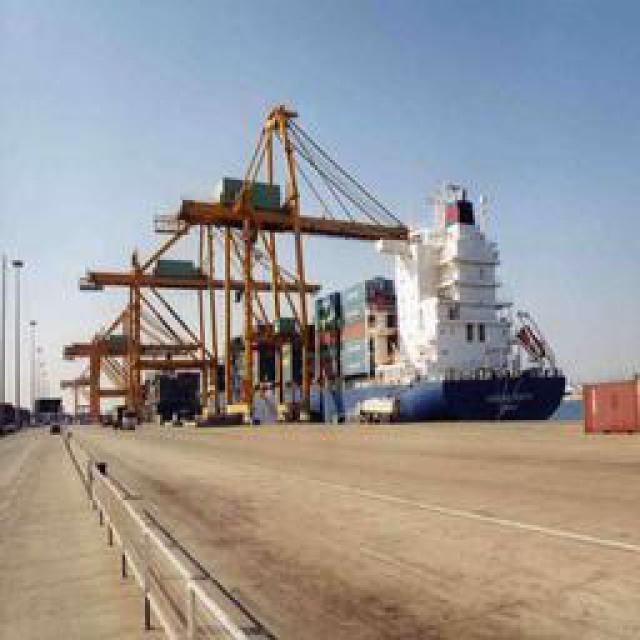Ship: (341, 179, 566, 429)
